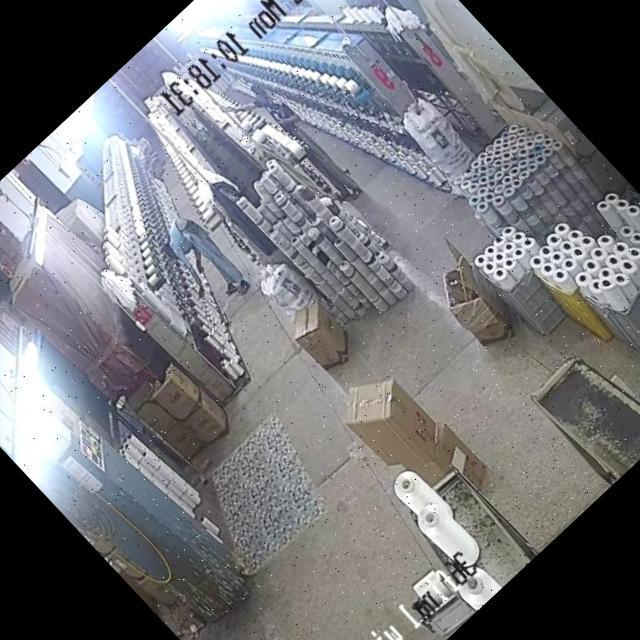person: (241, 76, 365, 206), (156, 208, 258, 314)
